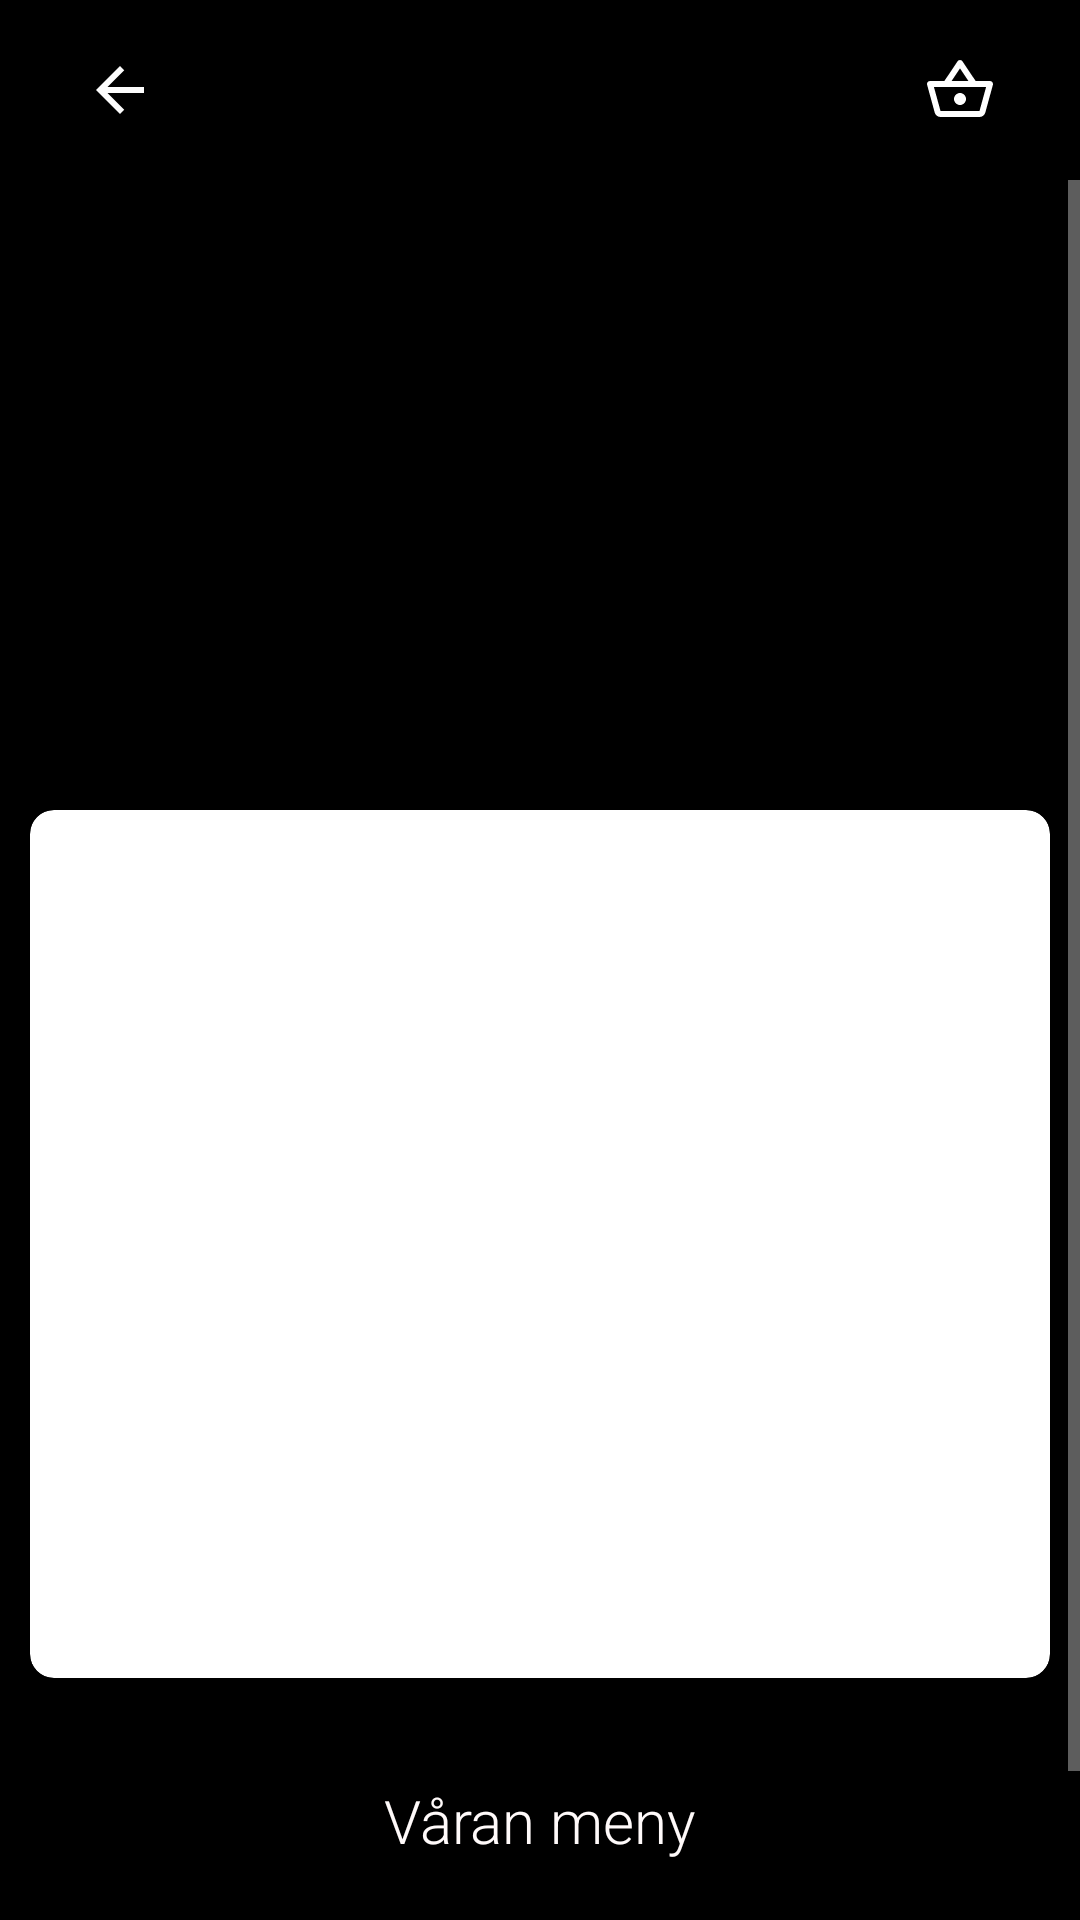

Icon bounding boxes for this 1080 × 1920 phone screenshot, format bbox=[x1, y1, x2, y2]:
arrow back: bbox=[96, 66, 144, 114]
shopping basket: bbox=[927, 60, 993, 117]
